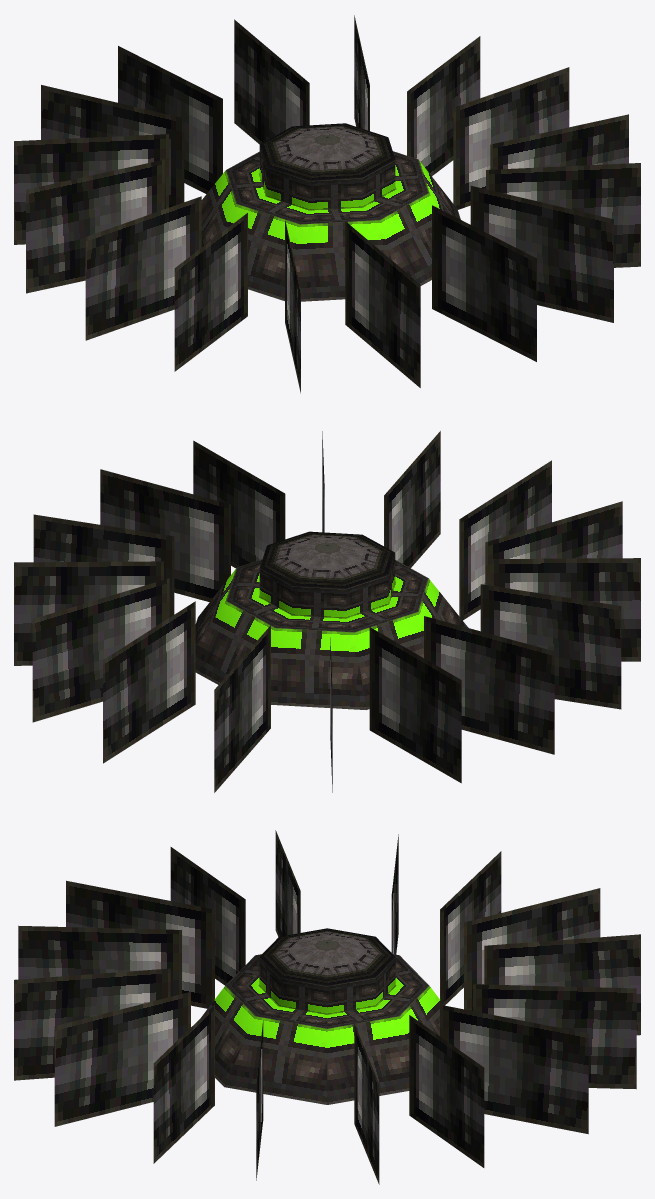
The picture shows the model from 3 angles, top to bottom: view 1: azimuth 30°, elevation 25°; view 2: azimuth 150°, elevation 25°; view 3: azimuth 270°, elevation 25°; orthographic projection. The views are drawn at different scales.
Visible parts, largest first — view 1: Conft_obj_061; view 2: Conft_obj_061; view 3: Conft_obj_061.
Boxes of the visible parts, x1,y1,x2,y2 form: Conft_obj_061: [14, 15, 640, 393]; Conft_obj_061: [14, 431, 640, 792]; Conft_obj_061: [14, 830, 640, 1184].
Size of the model in its own units: 3.78 by 0.8008 by 3.94.
2 materials, 2 textured.
